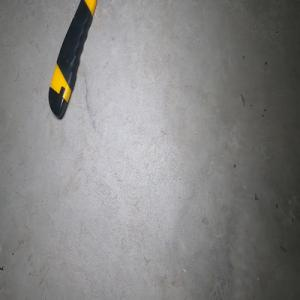Cutter: (48, 0, 97, 119)
